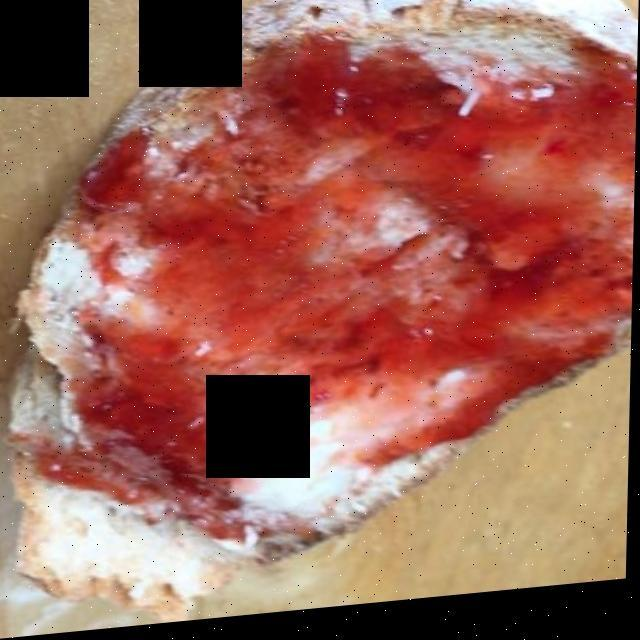bread: (28, 0, 616, 610)
butter: (89, 354, 465, 584)
jam: (63, 46, 619, 543)
